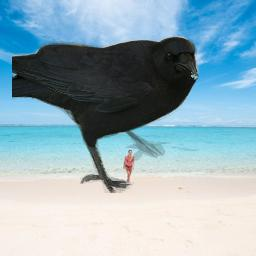Crow: (12, 36, 199, 193)
